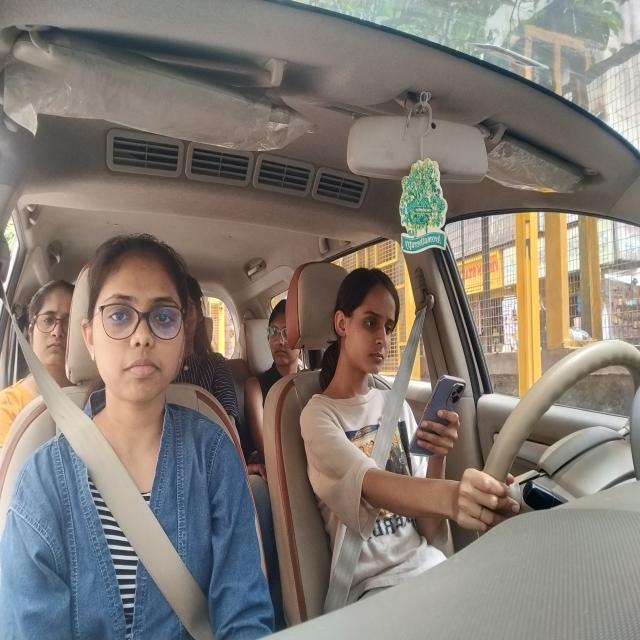mobile: (424, 368, 467, 460)
person: (86, 240, 189, 407), (333, 272, 402, 378), (24, 272, 73, 380), (260, 290, 302, 376), (186, 279, 209, 354)
